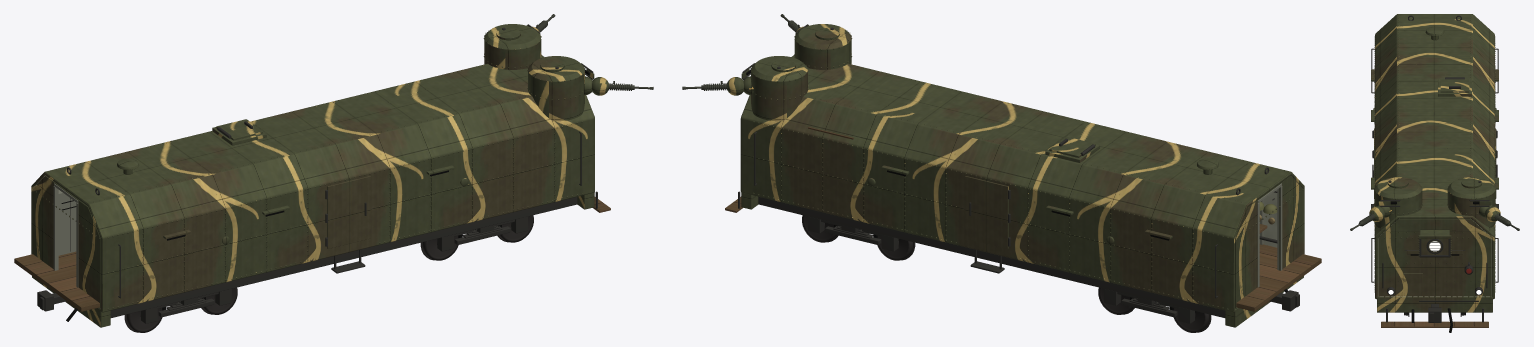
The model's file is guard_car.glb.
3 views of the same model, side by side, from view 1: azimuth 30°, elevation 25°; view 2: azimuth 150°, elevation 25°; view 3: azimuth 270°, elevation 25° (orthographic). The views are drawn at different scales.
Parts seen in each view (by area): view 1: HullShell, HullInterior, MgTurrets, HullDetails, Underframe, Bogies, HullRivets, MG_FR_Gun, Wheelset_2, Wheelset_0; view 2: HullShell, HullInterior, MgTurrets, HullDetails, Underframe, Bogies, HullRivets, MG_FL_Gun, Wheelset_0, Wheelset_2; view 3: HullShell, HullInterior, HullDetails, MgTurrets, Underframe, HullRivets, MG_FR_Gun, MG_FL_Gun, SearchlightLamp.
Boxes of the visible parts, x1,y1,x2,y2 form: HullShell: [31, 55, 594, 312]; HullInterior: [14, 176, 100, 311]; MgTurrets: [483, 24, 594, 121]; HullDetails: [67, 119, 610, 298]; Underframe: [32, 192, 594, 327]; Bogies: [141, 216, 527, 323]; HullRivets: [32, 64, 582, 309]; MG_FR_Gun: [592, 77, 653, 95]; Wheelset_2: [124, 308, 162, 332]; Wheelset_0: [420, 235, 458, 260]; HullShell: [740, 55, 1304, 312]; HullInterior: [808, 127, 1321, 311]; MgTurrets: [741, 24, 852, 121]; HullDetails: [725, 132, 1269, 298]; Underframe: [741, 192, 1303, 327]; Bogies: [808, 216, 1194, 323]; HullRivets: [753, 64, 1303, 309]; MG_FL_Gun: [682, 77, 753, 95]; Wheelset_0: [877, 235, 915, 260]; Wheelset_2: [1173, 308, 1211, 332]; HullShell: [1375, 14, 1494, 299]; HullInterior: [1378, 218, 1491, 296]; HullDetails: [1371, 15, 1498, 332]; MgTurrets: [1373, 177, 1496, 227]; Underframe: [1377, 297, 1492, 322]; HullRivets: [1374, 15, 1495, 297]; MG_FR_Gun: [1350, 206, 1391, 230]; MG_FL_Gun: [1485, 206, 1519, 230]; SearchlightLamp: [1426, 239, 1443, 254].
Bounding box in the file's own units: 13.74 × 4.06 × 4.25.
14 materials, 3 textured.
